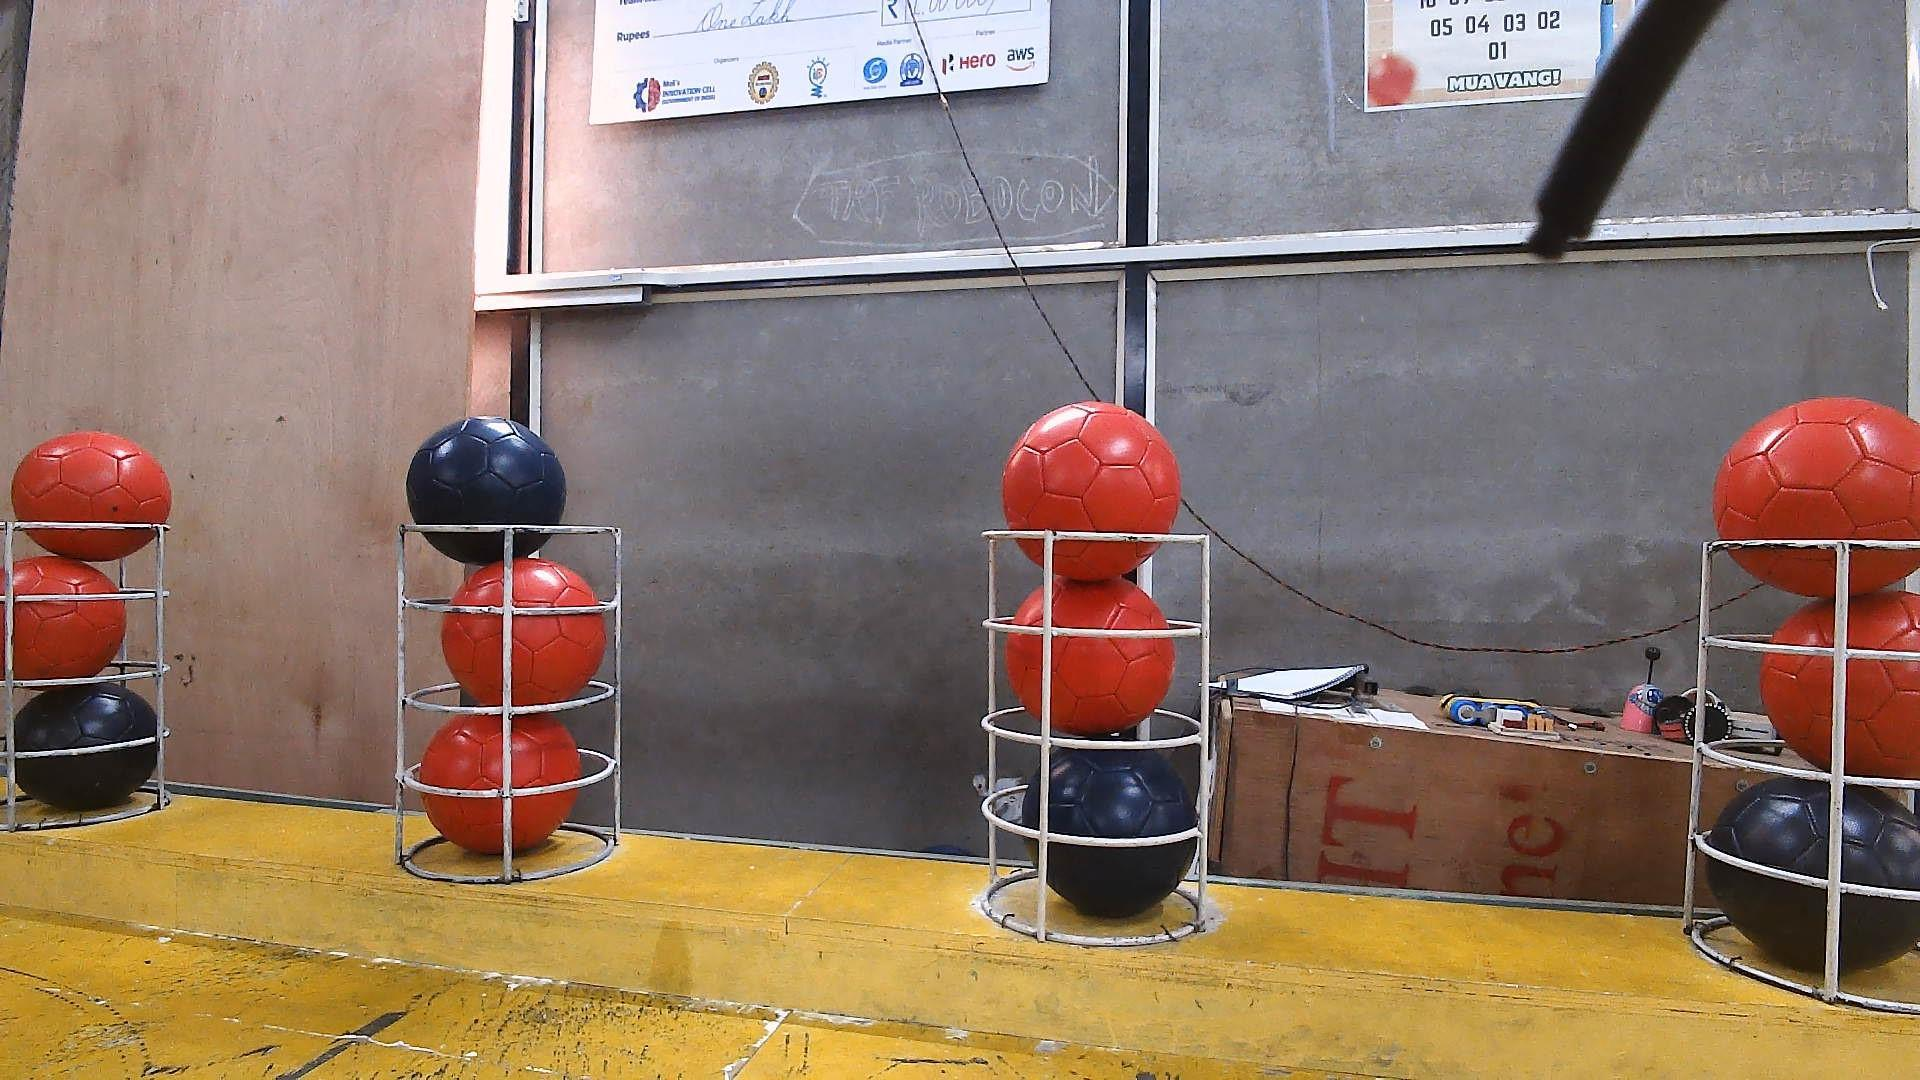dhoka: (1706, 777, 1920, 975), (1021, 750, 1196, 919), (405, 417, 566, 566), (15, 683, 157, 810)
laale: (1714, 397, 1920, 600), (1001, 401, 1182, 582), (1759, 588, 1920, 781), (1005, 578, 1174, 735), (443, 559, 608, 708), (417, 712, 582, 855), (12, 431, 173, 563), (0, 555, 128, 683)
